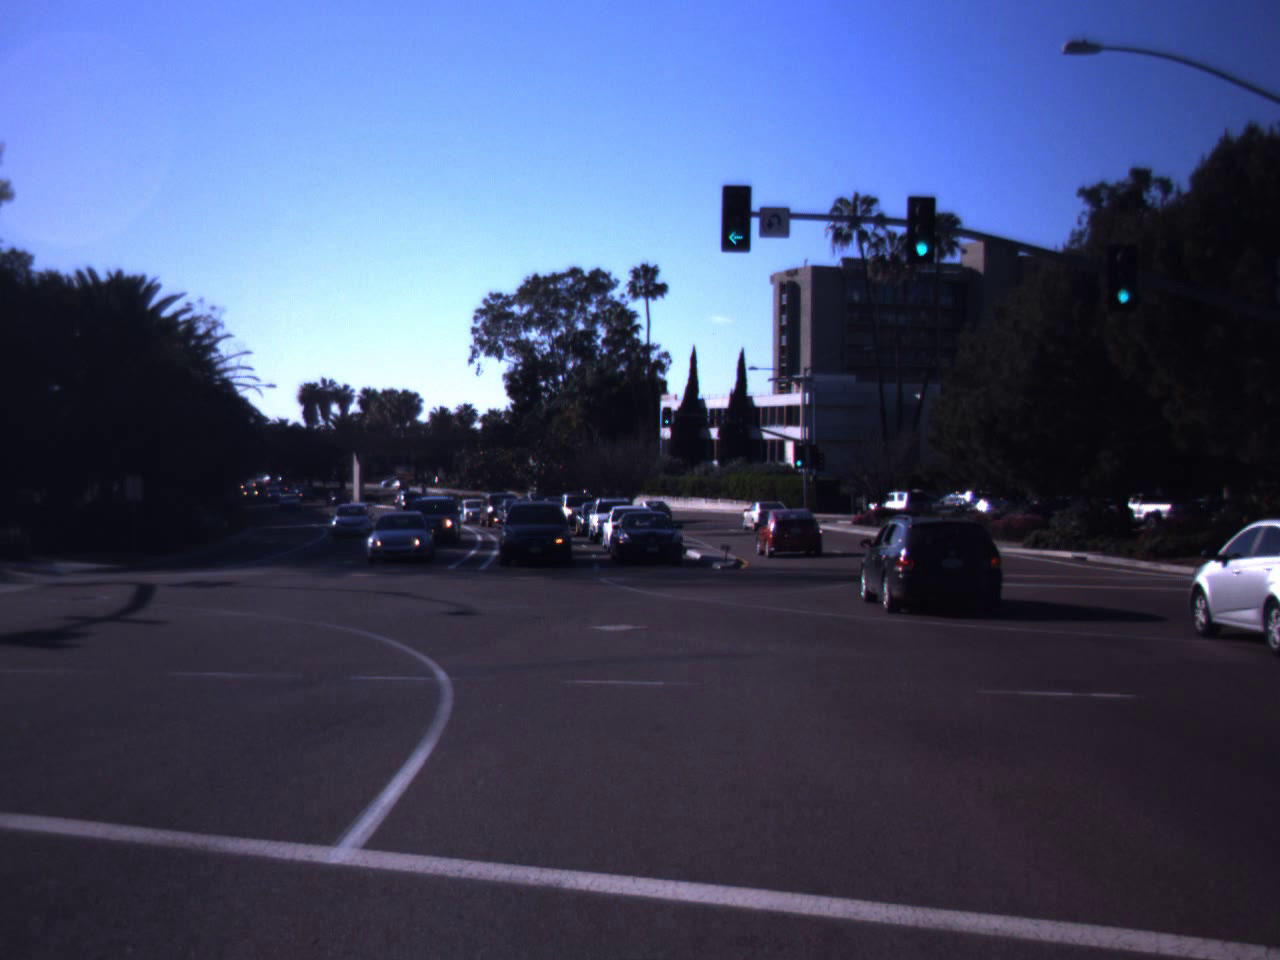go: (713, 177, 758, 252), (910, 210, 934, 260), (1113, 269, 1134, 304)
